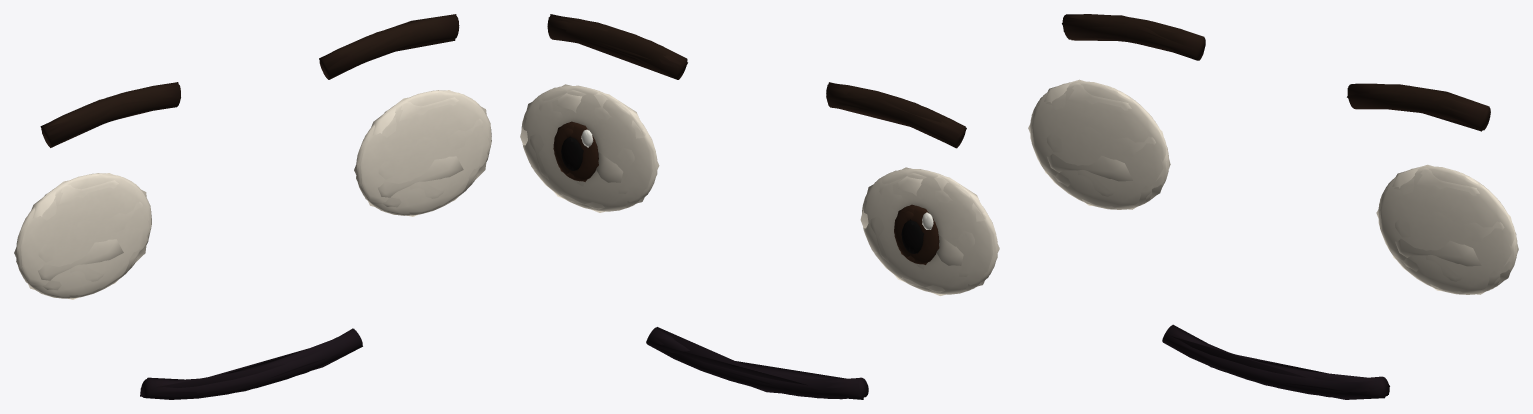
The model's file is smirk.glb.
The picture shows the model from 3 angles, left to right: view 1: azimuth 30°, elevation 25°; view 2: azimuth 150°, elevation 25°; view 3: azimuth 330°, elevation 25°; orthographic projection. The views are drawn at different scales.
Visible parts, largest first — view 1: near, mid, far; view 2: near, mid, far; view 3: near, mid, far.
Part boxes in pixels (x1=…): near: x1=16, y1=15, x2=491, y2=399; mid: x1=16, y1=17, x2=491, y2=399; far: x1=14, y1=14, x2=486, y2=398; near: x1=521, y1=16, x2=997, y2=398; mid: x1=522, y1=17, x2=997, y2=399; far: x1=520, y1=14, x2=999, y2=399; near: x1=1030, y1=14, x2=1517, y2=397; mid: x1=1030, y1=14, x2=1517, y2=398; far: x1=1028, y1=15, x2=1518, y2=399.
Bounding box in the file's own units: 0.7731 × 0.5054 × 0.0554.
6 materials, 6 textured.
